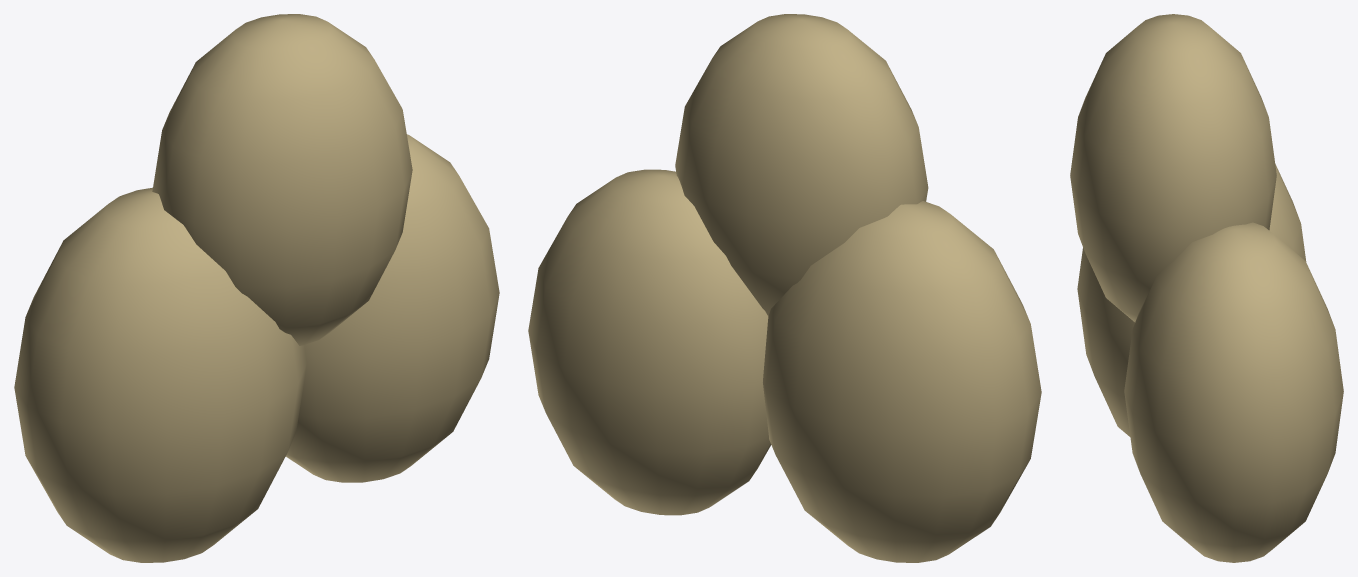
File: prop_asabukuro.glb
3 views of the same model, side by side, from view 1: azimuth 30°, elevation 25°; view 2: azimuth 150°, elevation 25°; view 3: azimuth 270°, elevation 25° (orthographic). The views are drawn at different scales.
Parts seen in each view (by area): view 1: asabukuro; view 2: asabukuro; view 3: asabukuro.
Part boxes in pixels (<box>): asabukuro: <box>14,14,499,562</box>; asabukuro: <box>528,14,1041,562</box>; asabukuro: <box>1070,14,1343,562</box>.
Size of the model in its own units: 1.3 by 1.33 by 0.678.
